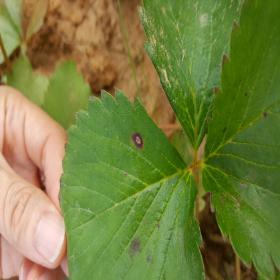Leaf Spot: (58, 87, 206, 279), (202, 0, 279, 279)
